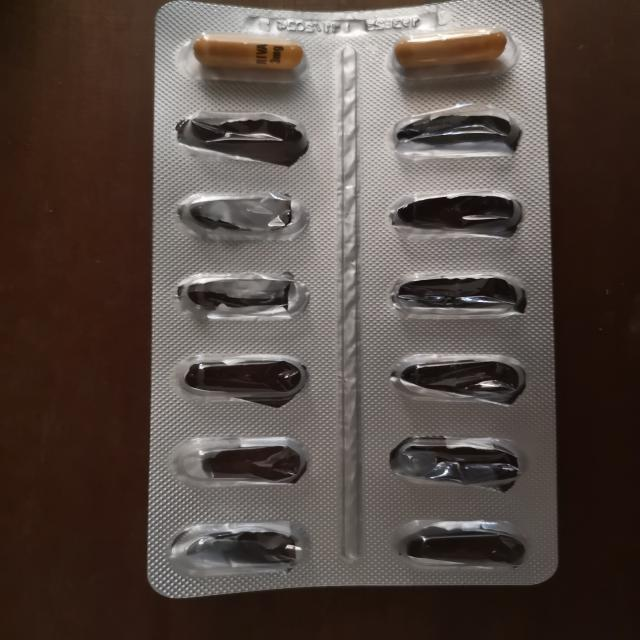Empty: (374, 263, 542, 331), (374, 347, 538, 414), (155, 518, 320, 584), (161, 426, 323, 492), (166, 347, 320, 416), (159, 106, 321, 171), (159, 184, 316, 251), (376, 513, 542, 576), (372, 432, 536, 495), (162, 264, 318, 330), (374, 105, 538, 166), (372, 188, 538, 246)
Pill: (174, 29, 325, 89), (380, 23, 524, 80)
